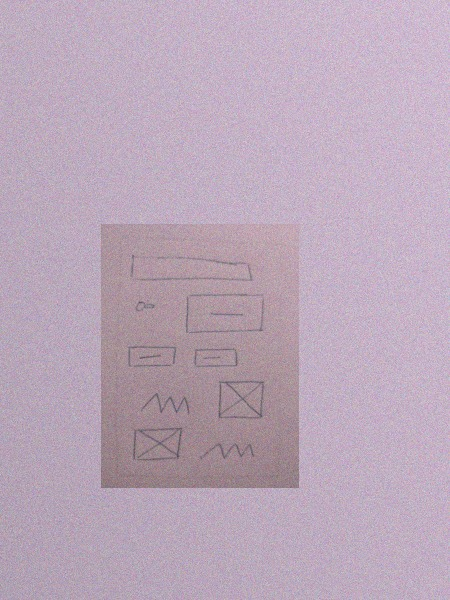button: (182, 293, 269, 335), (189, 344, 243, 373), (124, 343, 179, 371)
image: (212, 378, 269, 421), (131, 426, 185, 465)
switch: (131, 295, 159, 317)
text: (195, 439, 261, 464), (133, 390, 193, 417)
text_input: (126, 250, 256, 287)
